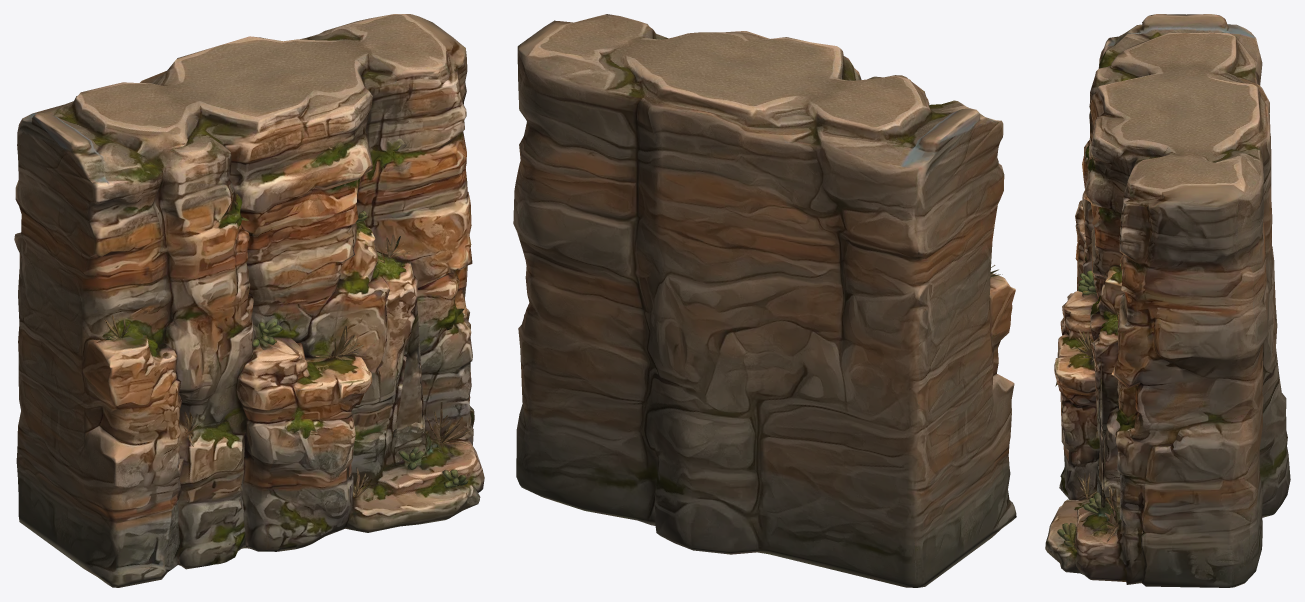
File: cliff.glb
3 views of the same model, side by side, from view 1: azimuth 30°, elevation 25°; view 2: azimuth 150°, elevation 25°; view 3: azimuth 270°, elevation 25° (orthographic). The views are drawn at different scales.
Size of the model in its own units: 0.9541 by 0.9536 by 0.5327.
Materials: 1 (1 with a texture image).
